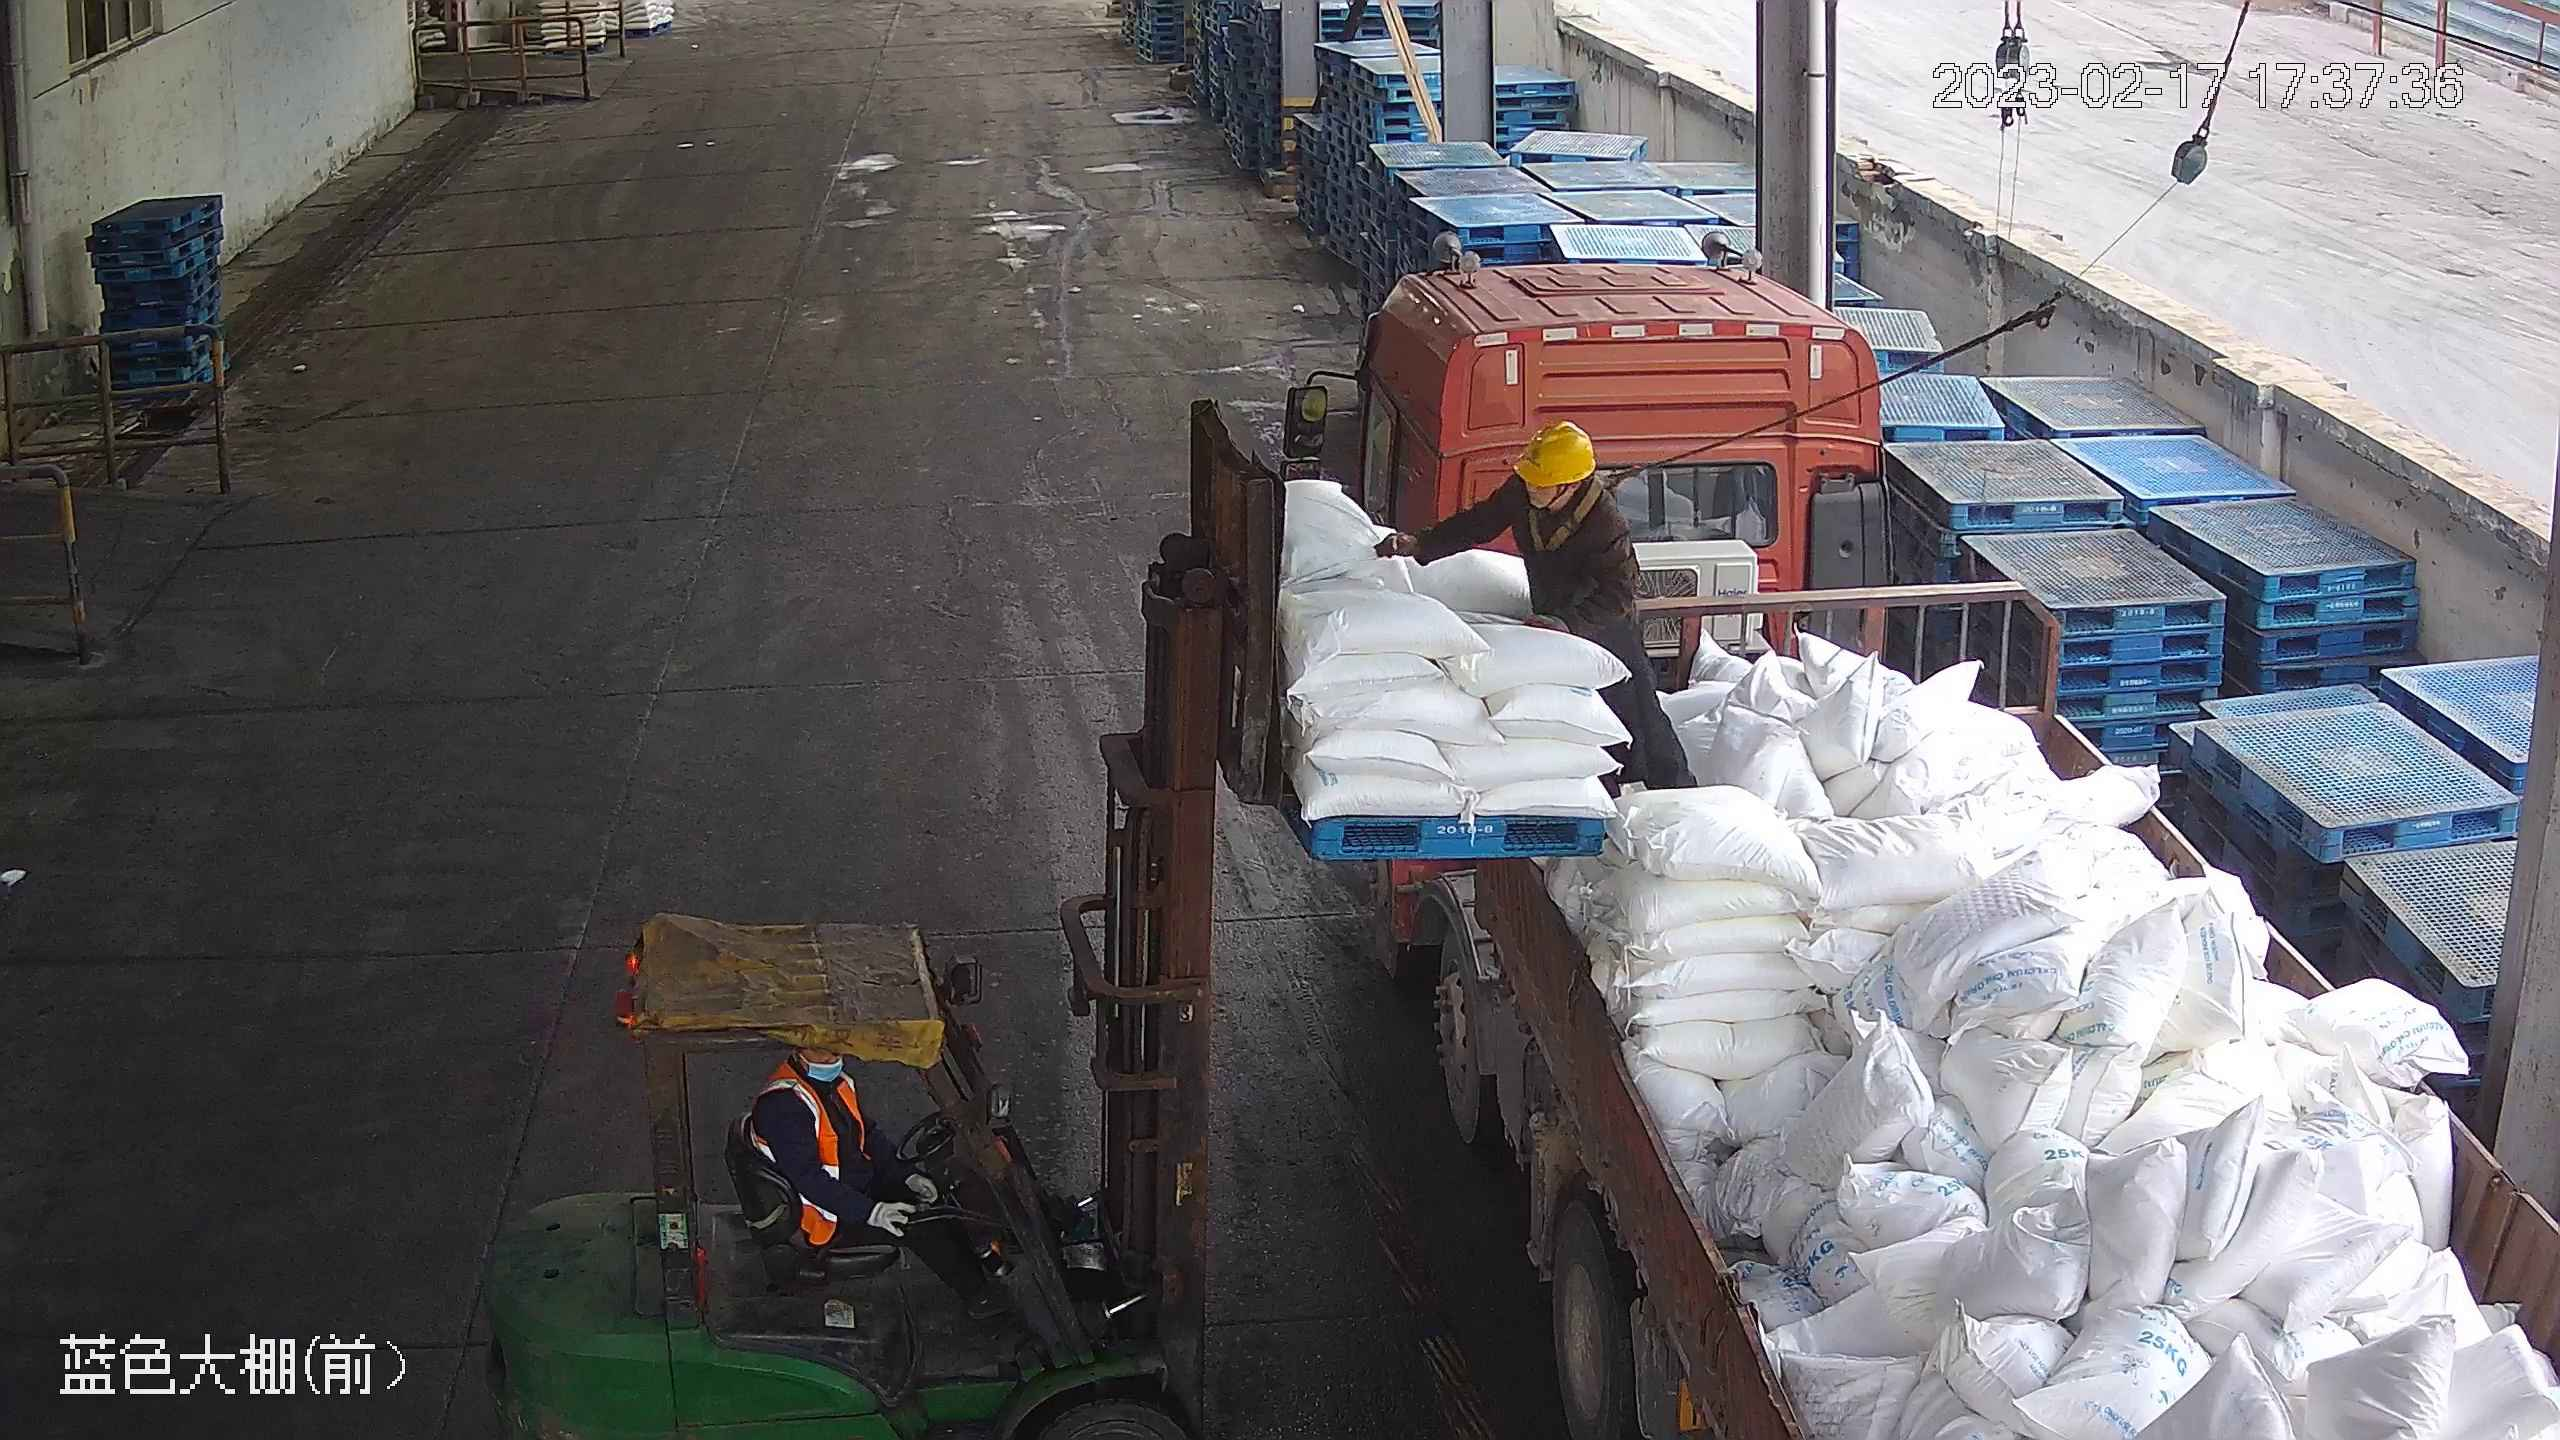belt: (1514, 475, 1633, 549)
head: (1485, 417, 1634, 546), (747, 1034, 876, 1141)
helmet: (1513, 417, 1597, 486)
people: (1375, 418, 1699, 802), (741, 1034, 972, 1324)
truck: (1286, 233, 2560, 1438)
